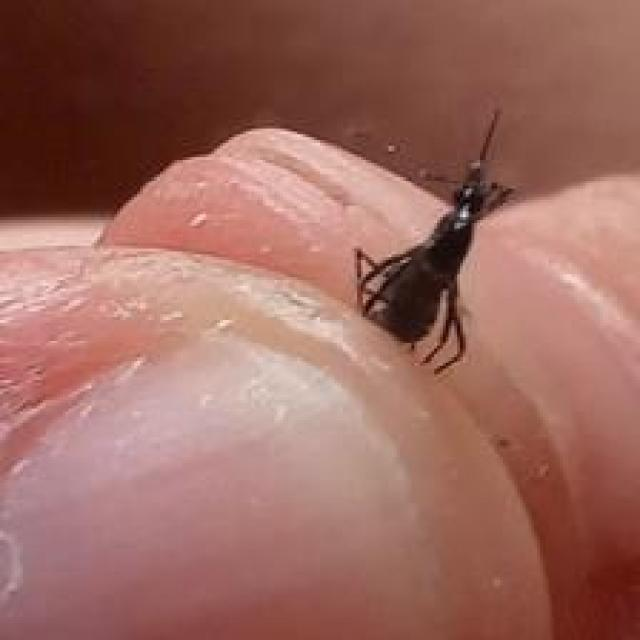Aedes albopictus: (352, 104, 517, 376)
